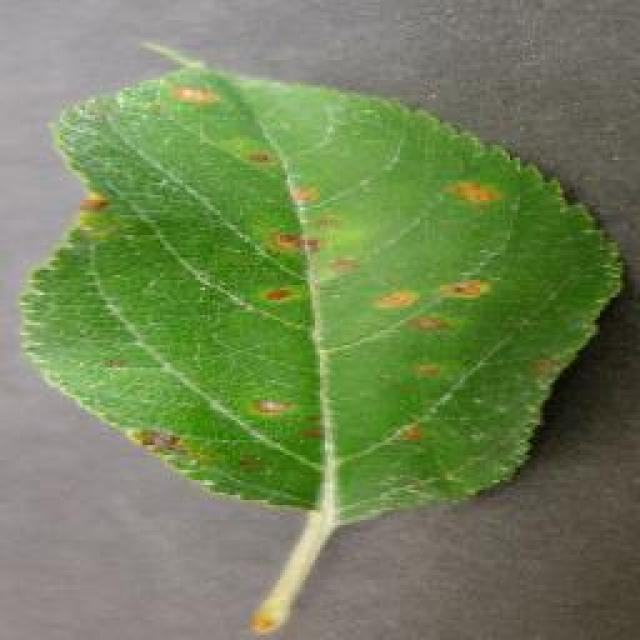apple cedar apple rust: (15, 37, 625, 635)
